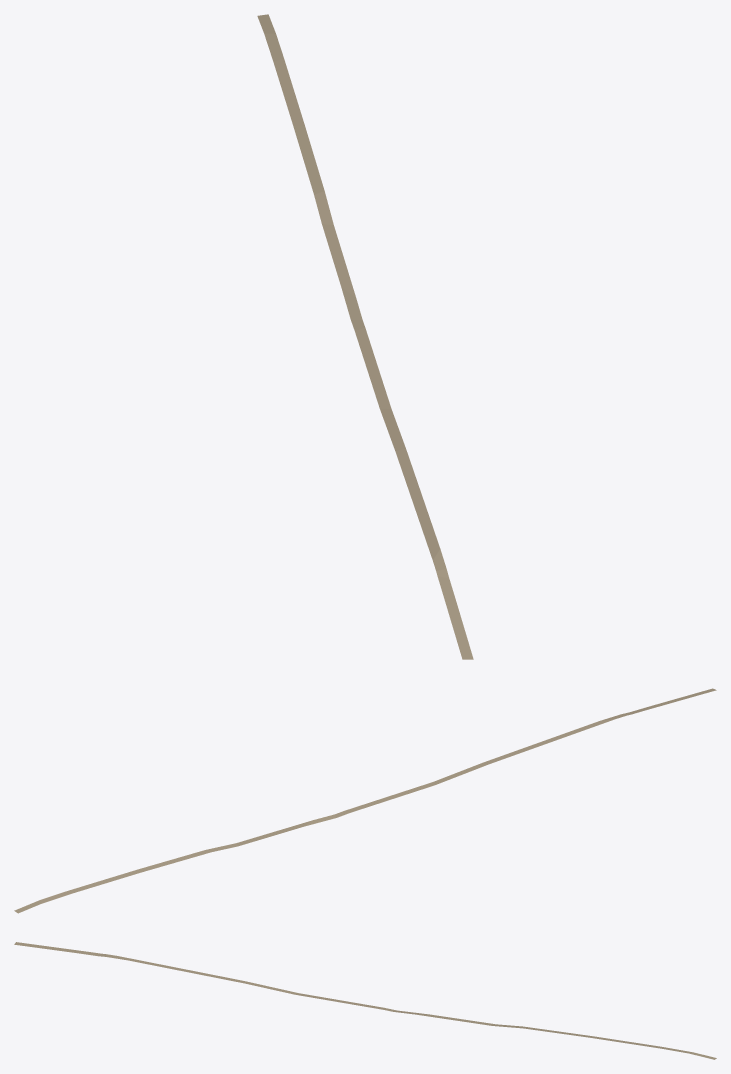
The model's file is farm_-11_-8_track.glb.
3 views of the same model, one above another, from view 1: azimuth 30°, elevation 25°; view 2: azimuth 150°, elevation 25°; view 3: azimuth 270°, elevation 25° (orthographic). The views are drawn at different scales.
Parts seen in each view (by area): view 1: geometry_0; view 2: geometry_0; view 3: geometry_0.
Boxes of the visible parts, x1,y1,x2,y2 form: geometry_0: (257,14,473,659); geometry_0: (14,688,716,913); geometry_0: (14,942,716,1059).
Bounding box in the file's own units: 168 × 6.35 × 405.
